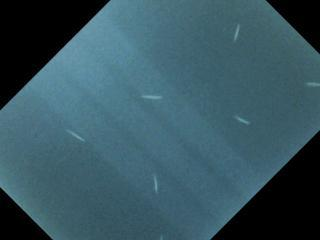scratch: (229, 20, 244, 45), (231, 113, 252, 128), (66, 129, 85, 142), (303, 81, 320, 91), (152, 173, 159, 193), (141, 94, 163, 100), (158, 233, 165, 240)
